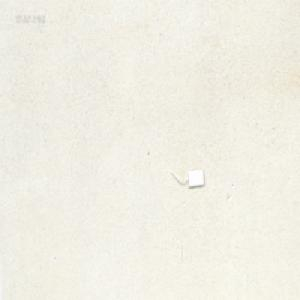LuggageTag: (169, 168, 205, 189)
